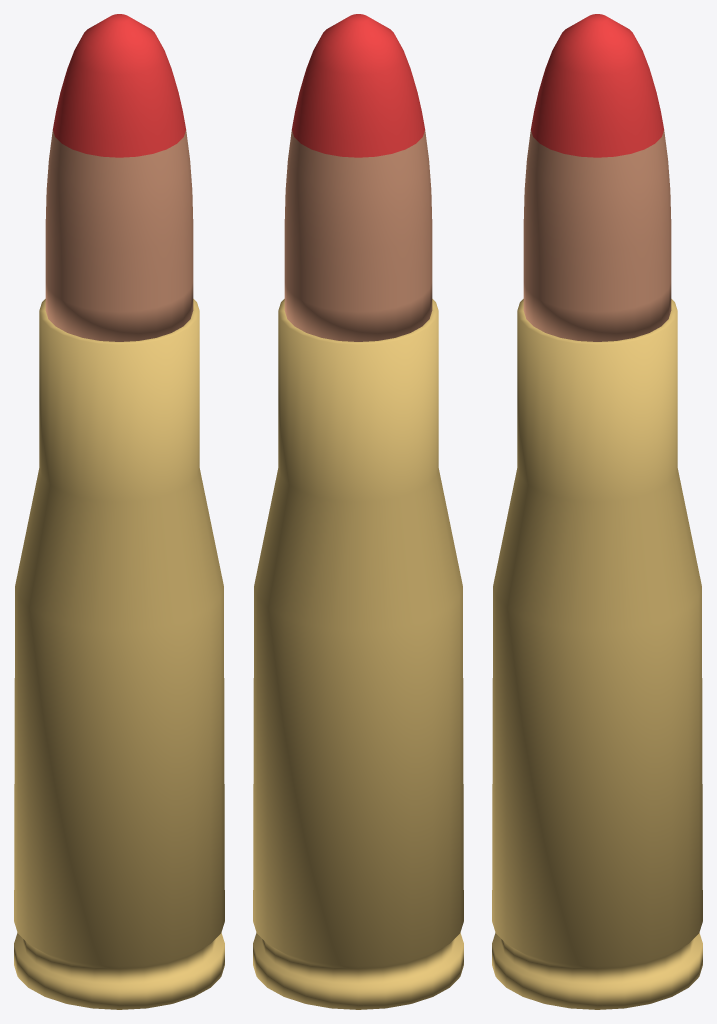
3 renders of one model, left to right at view 1: azimuth 30°, elevation 25°; view 2: azimuth 150°, elevation 25°; view 3: azimuth 270°, elevation 25°, orthographic.
Visible parts, largest first — view 1: vaina, bala_cuerpo, punta; view 2: vaina, bala_cuerpo, punta; view 3: vaina, bala_cuerpo, punta.
Boxes of the visible parts, bbox=[...] form: vaina: bbox=[14, 299, 224, 1009]; bala_cuerpo: bbox=[45, 130, 193, 341]; punta: bbox=[53, 14, 185, 157]; vaina: bbox=[253, 299, 463, 1009]; bala_cuerpo: bbox=[284, 130, 432, 341]; punta: bbox=[292, 14, 424, 157]; vaina: bbox=[492, 299, 702, 1009]; bala_cuerpo: bbox=[523, 130, 671, 341]; punta: bbox=[531, 14, 663, 157].
Bounding box in the file's own units: 0.0113 × 0.056 × 0.0113.
